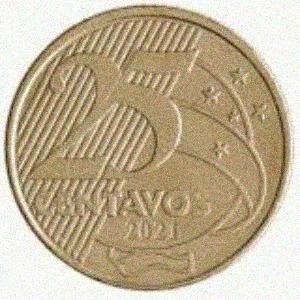25 cent: (3, 3, 288, 291)
